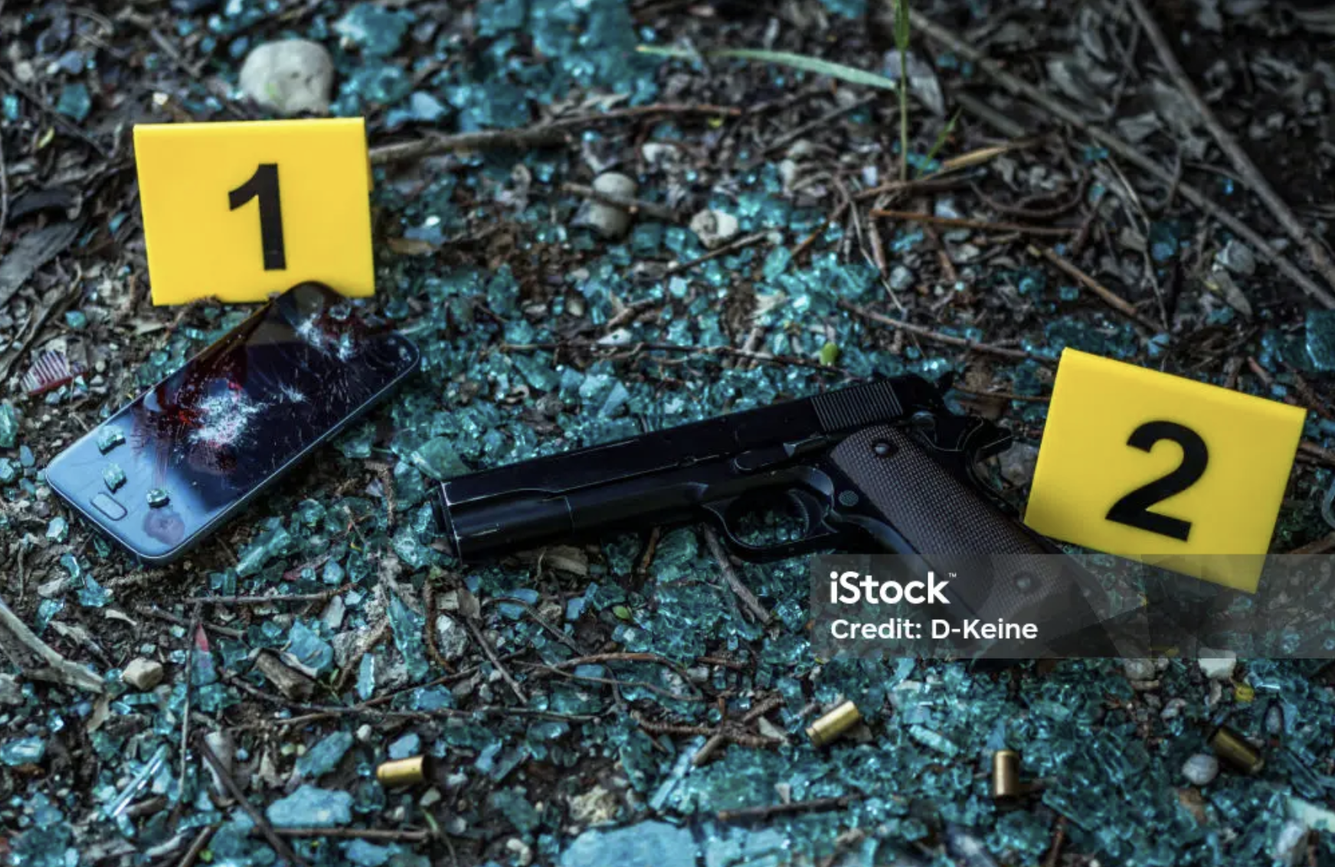gun_003: (420, 354, 1123, 680)
